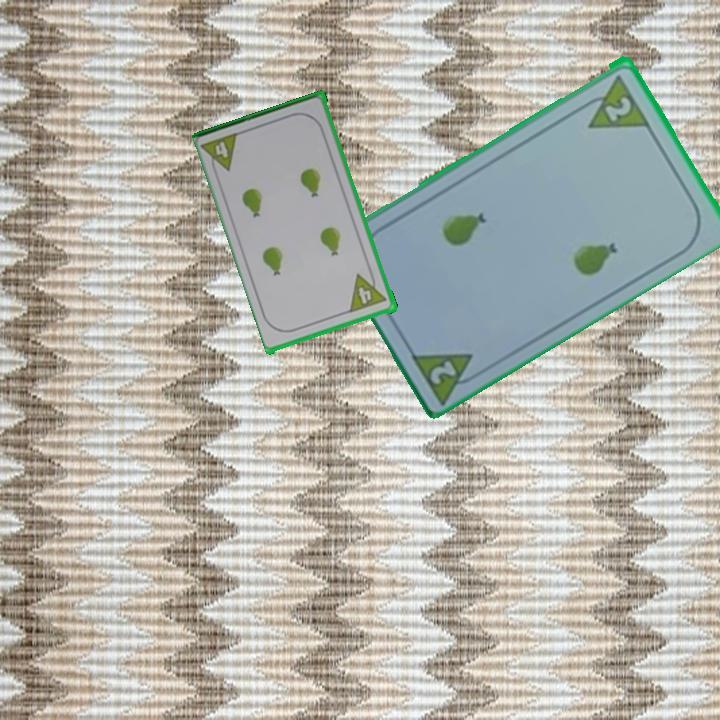2p: (601, 92, 635, 124), (426, 356, 460, 387)
4p: (199, 129, 243, 178), (346, 268, 390, 315)
